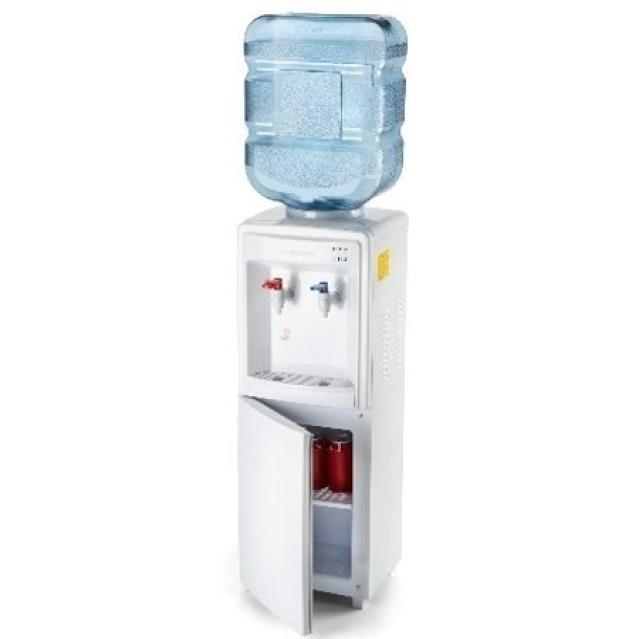Dispenser: (236, 13, 408, 635)
